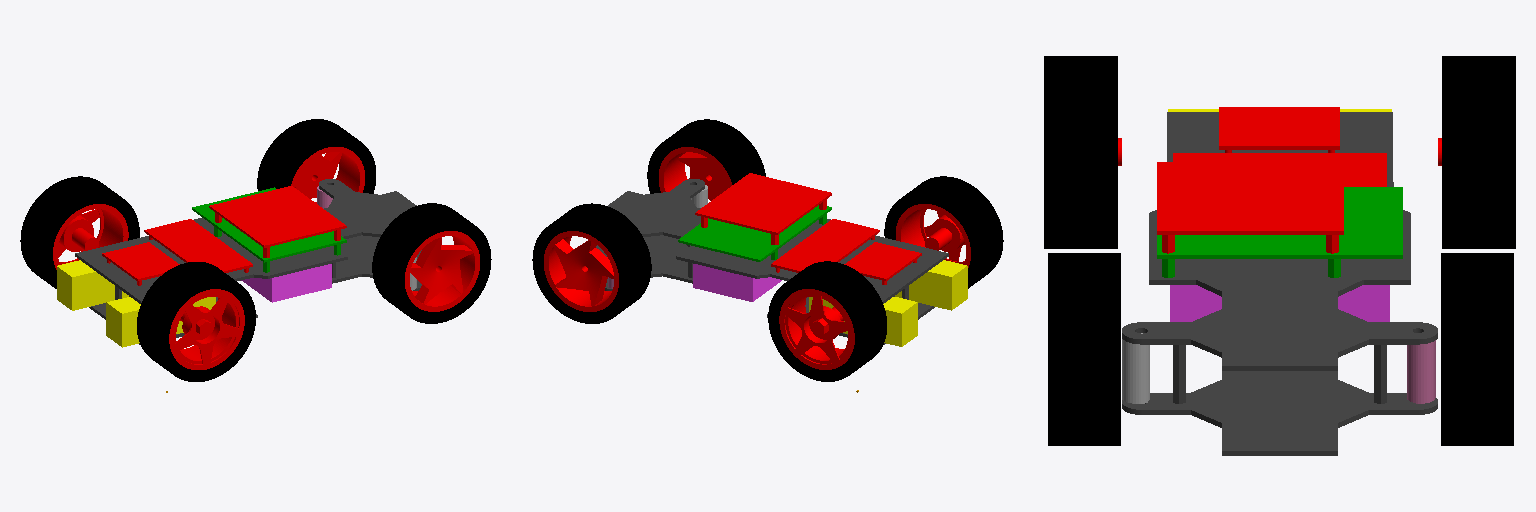
URDF robot description (PiCar-X):
<?xml version="1.0" ?>
<robot name="PiCar-X">
  <link name="base_footprint">
    <inertial>
      <mass value="0.0001"/>
      <origin xyz="0 0 0"/>
      <inertia ixx="0.0001" ixy="0.0" ixz="0.0" iyy="0.0001" iyz="0.0" izz="0.0001"/>
    </inertial>
    <visual>
      <origin rpy="0 0 0" xyz="0 0 0"/>
      <geometry>
        <box size="0.001 0.001 0.001"/>
      </geometry>
    </visual>
  </link>
  <gazebo reference="base_footprint">
    <turnGravityOff>false</turnGravityOff>
  </gazebo>
  <joint name="base_footprint_joint" type="fixed">
    <origin rpy="0 0 0" xyz="0 0 0.04"/>
    <parent link="base_footprint"/>
    <child link="picarx_Chassis"/>
  </joint>
  <joint name="picarx_Chassis_JOINT_REARLeft" type="revolute">
    <parent link="picarx_Chassis"/>
    <child link="picarx_WheelRearRight"/>
    <origin rpy="-1.5708  0      0" xyz="-0.01949  0.06926  0.03808"/>
    <axis xyz="0  1  0"/>
    <limit effort="-1.0" lower="-1.79769e+308" upper="1.79769e+308" velocity="-1.0"/>
  </joint>
  <joint name="picarx_Chassis_JOINT_steer_fr" type="revolute">
    <parent link="picarx_Chassis"/>
    <child link="picarx_steer_fr"/>
    <origin rpy="0  0  0" xyz="0.137   -0.04999  0.029"/>
    <axis xyz="0  0  1"/>
    <limit effort="-1.0" lower="-1.79769e+308" upper="1.79769e+308" velocity="-1.0"/>
  </joint>
  <joint name="picarx_Chassis_JOINT_REARRight" type="revolute">
    <parent link="picarx_Chassis"/>
    <child link="picarx_WheelRearLeft"/>
    <origin rpy="-1.5708  0      0" xyz="-0.0195  -0.06925  0.03808"/>
    <axis xyz="0  1  0"/>
    <limit effort="-1.0" lower="-1.79769e+308" upper="1.79769e+308" velocity="-1.0"/>
  </joint>
  <joint name="picarx_steer_fr_JOINT_FrontRight" type="revolute">
    <parent link="picarx_steer_fr"/>
    <child link="picarx_WheelFrontLeft"/>
    <origin rpy="1.5708  0      0" xyz="0.00542 -0.01816  0.00908"/>
    <axis xyz="0  1  0"/>
    <limit effort="-1.0" lower="-1.79769e+308" upper="1.79769e+308" velocity="-1.0"/>
  </joint>
  <joint name="picarx_steer_fl_JOINT_FrontLeft" type="revolute">
    <parent link="picarx_steer_fl"/>
    <child link="picarx_WheelFrontRight"/>
    <origin rpy="1.5708  0      0" xyz="0.00542  0.01983  0.00908"/>
    <axis xyz="0  1  0"/>
    <limit effort="-1.0" lower="-1.79769e+308" upper="1.79769e+308" velocity="-1.0"/>
  </joint>
  <joint name="picarx_Chassis_JOINT_steer_fl" type="revolute">
    <parent link="picarx_Chassis"/>
    <child link="picarx_steer_fl"/>
    <origin rpy="0  0  0" xyz="0.137  0.049  0.029"/>
    <axis xyz="0  0  1"/>
    <limit effort="-1.0" lower="-1.79769e+308" upper="1.79769e+308" velocity="-1.0"/>
  </joint>
  <link name="picarx_Chassis">
    <inertial>
      <mass value="1"/>
      <origin rpy="0  0  0" xyz="0  0  0"/>
      <inertia ixx="0.166667" ixy="0" ixz="0" iyy="0.166667" iyz="0" izz="0.166667"/>
    </inertial>
    <collision name="picarx_collision">
      <origin rpy="0  0  0" xyz="0     0     0.015"/>
      <geometry>
        <mesh filename="package://picarx_description/meshes/Chassis.dae" scale="1 1 1"/>
      </geometry>
    </collision>
    <visual name="picarx_visual">
      <origin rpy="0  0  0" xyz="0     0     0.015"/>
      <geometry>
        <mesh filename="package://picarx_description/meshes/Chassis.dae" scale="1 1 1"/>
      </geometry>
    </visual>
  </link>
  <link name="picarx_WheelRearRight">
    <inertial>
      <mass value="1"/>
      <origin rpy="0  0  0" xyz="0  0  0"/>
      <inertia ixx="0.166667" ixy="0" ixz="0" iyy="0.166667" iyz="0" izz="0.166667"/>
    </inertial>
    <collision name="picarx_collision">
      <origin rpy="0  0  0" xyz="0  0  0"/>
      <geometry>
        <mesh filename="package://picarx_description/meshes/WheelRearRight.dae" scale="1 1 1"/>
      </geometry>
    </collision>
    <visual name="picarx_visual">
      <origin rpy="0  0  0" xyz="0  0  0"/>
      <geometry>
        <mesh filename="package://picarx_description/meshes/WheelRearRight.dae" scale="1 1 1"/>
      </geometry>
    </visual>
  </link>
  <link name="picarx_WheelRearLeft">
    <inertial>
      <mass value="1"/>
      <origin rpy="0  0  0" xyz="0  0  0"/>
      <inertia ixx="0.166667" ixy="0" ixz="0" iyy="0.166667" iyz="0" izz="0.166667"/>
    </inertial>
    <collision name="picarx_collision">
      <origin rpy="0  0  0" xyz="0  0  0"/>
      <geometry>
        <mesh filename="package://picarx_description/meshes/WheelRearLeft.dae" scale="1 1 1"/>
      </geometry>
    </collision>
    <visual name="picarx_visual">
      <origin rpy="0  0  0" xyz="0  0  0"/>
      <geometry>
        <mesh filename="package://picarx_description/meshes/WheelRearLeft.dae" scale="1 1 1"/>
      </geometry>
    </visual>
  </link>
  <link name="picarx_WheelFrontLeft">
    <inertial>
      <mass value="1"/>
      <origin rpy="0  0  0" xyz="0  0  0"/>
      <inertia ixx="0.166667" ixy="0" ixz="0" iyy="0.166667" iyz="0" izz="0.166667"/>
    </inertial>
    <collision name="picarx_collision">
      <origin rpy="0  0  0" xyz="0  0  0"/>
      <geometry>
        <mesh filename="package://picarx_description/meshes/WheelFrontLeft.dae" scale="1 1 1"/>
      </geometry>
    </collision>
    <visual name="picarx_visual">
      <origin rpy="0  0  0" xyz="0  0  0"/>
      <geometry>
        <mesh filename="package://picarx_description/meshes/WheelFrontLeft.dae" scale="1 1 1"/>
      </geometry>
    </visual>
  </link>
  <link name="picarx_WheelFrontRight">
    <inertial>
      <mass value="1"/>
      <origin rpy="0  0  0" xyz="0  0  0"/>
      <inertia ixx="0.166667" ixy="0" ixz="0" iyy="0.166667" iyz="0" izz="0.166667"/>
    </inertial>
    <collision name="picarx_collision">
      <origin rpy="0  0  0" xyz="0  0  0"/>
      <geometry>
        <mesh filename="package://picarx_description/meshes/WheelFrontRight.dae" scale="1 1 1"/>
      </geometry>
    </collision>
    <visual name="picarx_visual">
      <origin rpy="0  0  0" xyz="0  0  0"/>
      <geometry>
        <mesh filename="package://picarx_description/meshes/WheelFrontRight.dae" scale="1 1 1"/>
      </geometry>
    </visual>
  </link>
  <link name="picarx_steer_fl">
    <inertial>
      <mass value="1"/>
      <origin rpy="0  0  0" xyz="0  0  0"/>
      <inertia ixx="0" ixy="0" ixz="0" iyy="0" iyz="0" izz="0"/>
    </inertial>
    <visual name="picarx_visual">
      <origin rpy="0  0  0" xyz="0  0  0"/>
      <geometry>
        <cylinder length="0.025" radius="0.005"/>
      </geometry>
    </visual>
  </link>
  <link name="picarx_steer_fr">
    <inertial>
      <mass value="1"/>
      <origin rpy="0  0  0" xyz="0  0  0"/>
      <inertia ixx="0" ixy="0" ixz="0" iyy="0" iyz="0" izz="0"/>
    </inertial>
    <visual name="picarx_visual">
      <origin rpy="0  0  0" xyz="0  0  0"/>
      <geometry>
        <cylinder length="0.025" radius="0.005"/>
      </geometry>
    </visual>
  </link>
</robot>

--- What the picture shows (computed from the rendered views, not written in the file) ---
Views: 3 orthographic renders of the robot side by side, from view 1: azimuth 30°, elevation 25°; view 2: azimuth 150°, elevation 25°; view 3: azimuth 270°, elevation 25°.
Robot: PiCar-X — 8 links, 7 joints (6 revolute, 1 fixed); root link base_footprint; default pose: all joints at 0.
Visible links, largest first — view 1: picarx_Chassis, picarx_WheelFrontLeft, picarx_WheelRearLeft, picarx_WheelRearRight, picarx_WheelFrontRight; view 2: picarx_Chassis, picarx_WheelFrontRight, picarx_WheelRearRight, picarx_WheelRearLeft, picarx_WheelFrontLeft; view 3: picarx_Chassis, picarx_WheelRearRight, picarx_WheelRearLeft, picarx_WheelFrontLeft, picarx_WheelFrontRight, picarx_steer_fl, picarx_steer_fr.
Link boxes in pixels (x1=…): picarx_Chassis: x1=57, y1=179, x2=421, y2=347; picarx_WheelFrontLeft: x1=372, y1=203, x2=491, y2=323; picarx_WheelRearLeft: x1=137, y1=262, x2=255, y2=381; picarx_WheelRearRight: x1=20, y1=176, x2=139, y2=288; picarx_WheelFrontRight: x1=257, y1=119, x2=375, y2=203; picarx_Chassis: x1=596, y1=173, x2=967, y2=346; picarx_WheelFrontRight: x1=532, y1=203, x2=651, y2=323; picarx_WheelRearRight: x1=768, y1=261, x2=886, y2=381; picarx_WheelRearLeft: x1=884, y1=176, x2=1003, y2=288; picarx_WheelFrontLeft: x1=647, y1=119, x2=765, y2=200; picarx_Chassis: x1=1122, y1=107, x2=1437, y2=455; picarx_WheelRearRight: x1=1438, y1=56, x2=1515, y2=248; picarx_WheelRearLeft: x1=1044, y1=56, x2=1121, y2=248; picarx_WheelFrontLeft: x1=1048, y1=253, x2=1120, y2=445; picarx_WheelFrontRight: x1=1441, y1=253, x2=1513, y2=445; picarx_steer_fl: x1=1407, y1=340, x2=1435, y2=403; picarx_steer_fr: x1=1122, y1=333, x2=1149, y2=403.
Size in the robot's own frame: 0.234 by 0.1635 by 0.1121 metres.
5 mesh visuals loaded from 5 distinct referenced files (5 Collada DAE).